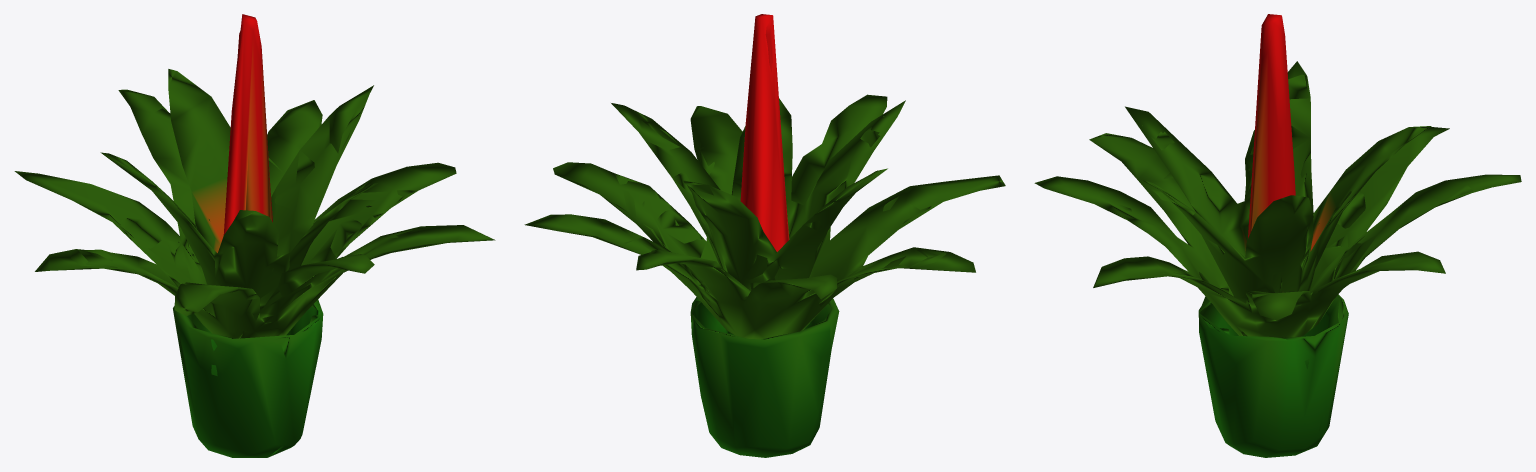
The model's file is gen3d-bromeliad-lod1.glb.
3 views of the same model, side by side, from view 1: azimuth 30°, elevation 25°; view 2: azimuth 150°, elevation 25°; view 3: azimuth 270°, elevation 25° (orthographic).
Parts seen in each view (by area): view 1: part_0; view 2: part_0; view 3: part_0.
Boxes of the visible parts, box(x1,y1,x2,y2) form: part_0: box(14, 14, 495, 457); part_0: box(524, 14, 1005, 457); part_0: box(1034, 14, 1521, 457).
Bounding box in the file's own units: 1.04 × 0.9972 × 1.04.
